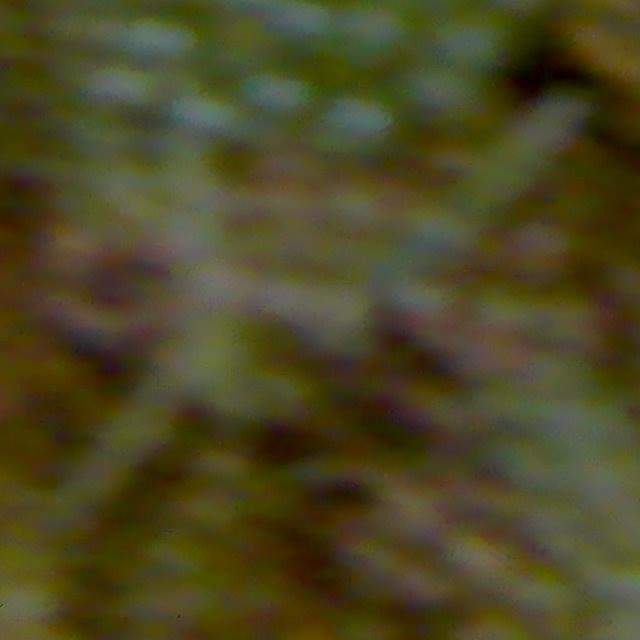SeaGrape: (403, 58, 487, 134), (321, 85, 398, 163), (435, 3, 513, 75), (336, 0, 415, 71), (241, 61, 318, 127)
